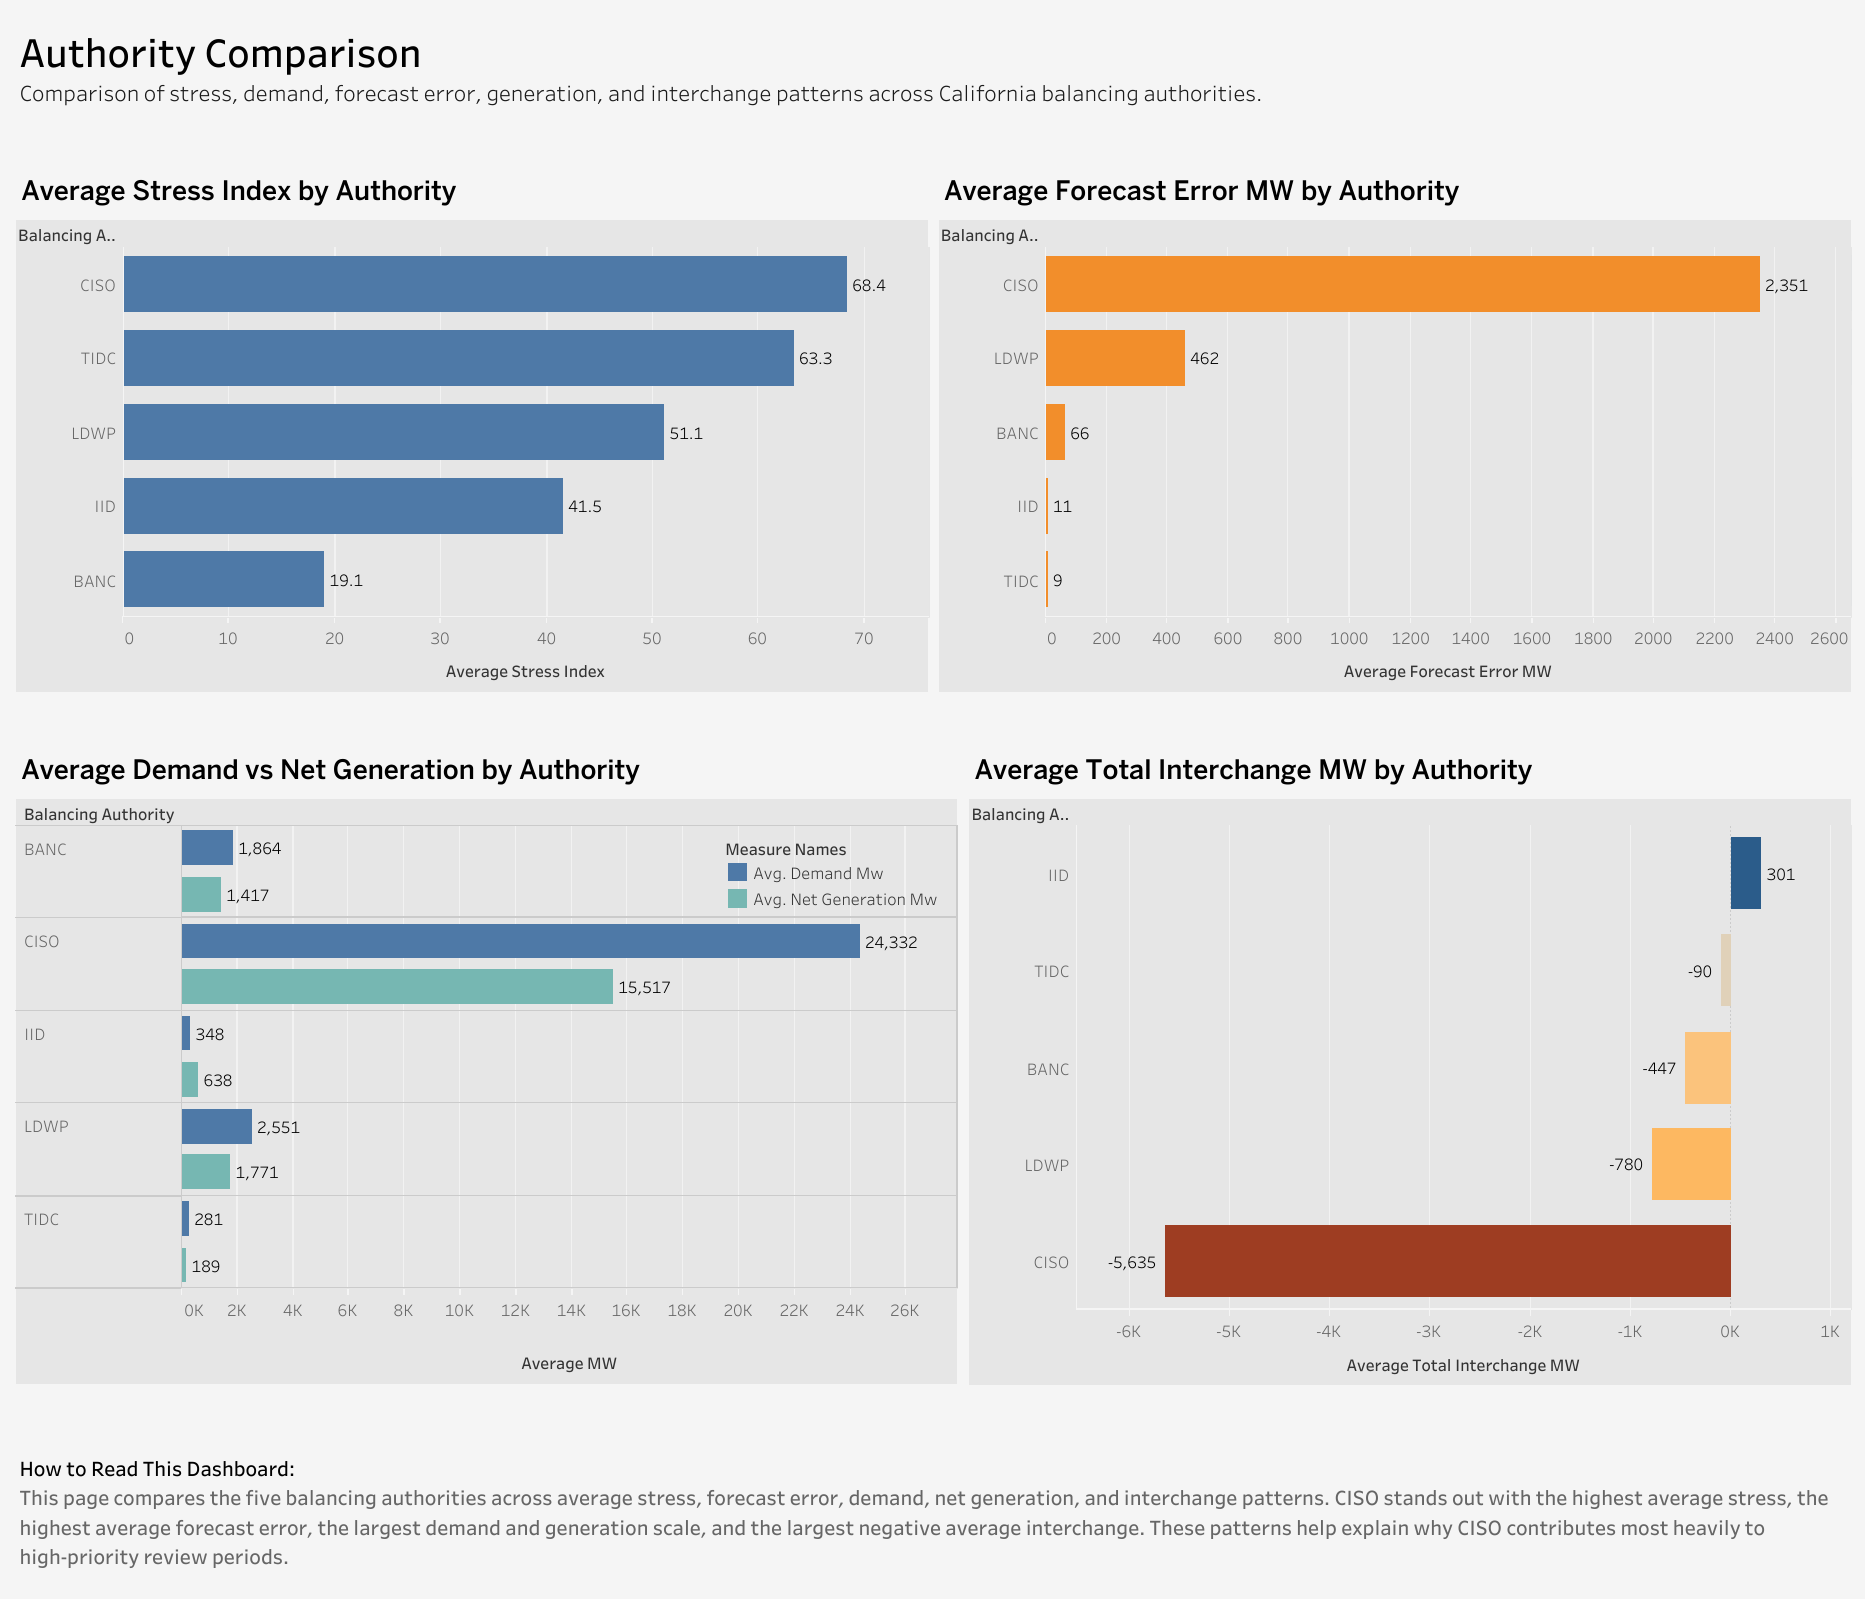

The page's visual inventory and layout, read from the dashboard file:
{"tool":"tableau","page":{"name":"Authority Comparison","canvas":[1400,1200],"ordinal":0},"visuals":[{"type":"text","box":[8,8,1384,82.1]},{"type":"blank","box":[8,90.1,1384,30.9]},{"type":"worksheet","title":"D3 - Avg Stress Index by Authority","mark":"Automatic","rows":["balancing_authority"],"cols":["stress_index"],"box":[8,121.1,692,402]},{"type":"worksheet","title":"D3 - Avg Forecast Error by Authority","mark":"Automatic","rows":["balancing_authority"],"cols":["Calculation_2080618465087490"],"box":[700,121.1,692,402]},{"type":"blank","box":[8,523.1,1384,32]},{"type":"worksheet","title":"D3 - Avg Demand vs Net Generation","mark":"Bar","rows":["balancing_authority"],"box":[8,555.1,715,487.9]},{"type":"worksheet","title":"D3 - Avg Interchange by Authority","mark":"Automatic","rows":["balancing_authority"],"cols":["total_interchange_mw"],"box":[723,555.1,669,487.9]},{"type":"legend","title":"D3 - Avg Demand vs Net Generation","param":"[federated.17h0ghz0b34qph1a8vgzj0fkn2dw].[:Measure Names]","box":[543,625,165,58]},{"type":"blank","box":[8,1043,1384,32]},{"type":"text","box":[8,1075,1384,117]}]}

Visuals, with their boxes in screenshot pixels (x1, y1, x2, y2), scaled from the page's 1400x1200 canvas onto the 1865x1599 screenshot:
text: l=11, t=11, r=1854, b=120
blank: l=11, t=120, r=1854, b=161
"D3 - Avg Stress Index by Authority" worksheet: l=11, t=161, r=932, b=697
"D3 - Avg Forecast Error by Authority" worksheet: l=932, t=161, r=1854, b=697
blank: l=11, t=697, r=1854, b=740
"D3 - Avg Demand vs Net Generation" worksheet (Bar marks): l=11, t=740, r=963, b=1390
"D3 - Avg Interchange by Authority" worksheet: l=963, t=740, r=1854, b=1390
"D3 - Avg Demand vs Net Generation" legend: l=723, t=833, r=943, b=910
blank: l=11, t=1390, r=1854, b=1432
text: l=11, t=1432, r=1854, b=1588
